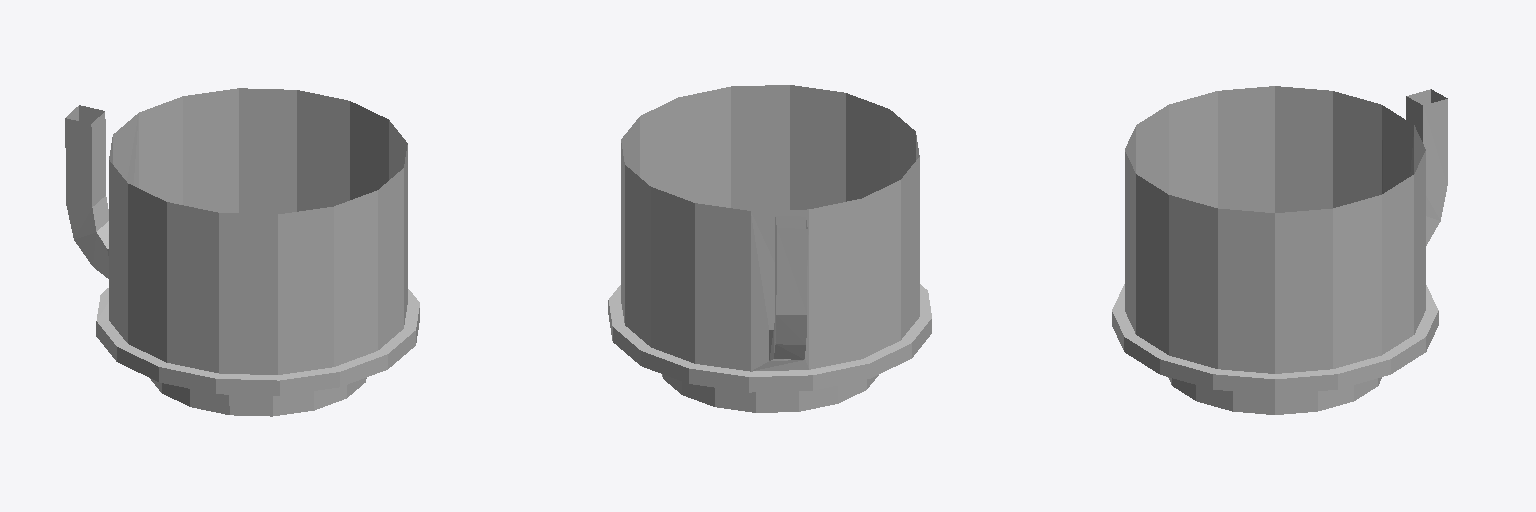
Rendered from rotatingLightMainCollider.obj.
The picture shows the model from 3 angles: view 1: azimuth 30°, elevation 25°; view 2: azimuth 150°, elevation 25°; view 3: azimuth 270°, elevation 25°; orthographic projection.
Visible parts, largest first — view 1: Cube.005_Cube.004; view 2: Cube.005_Cube.004; view 3: Cube.005_Cube.004.
Boxes of the visible parts, x1,y1,x2,y2 form: Cube.005_Cube.004: [65, 88, 419, 416]; Cube.005_Cube.004: [608, 85, 931, 412]; Cube.005_Cube.004: [1112, 86, 1447, 414].
Bounding box in the file's own units: 0.1651 × 0.1251 × 0.1699.